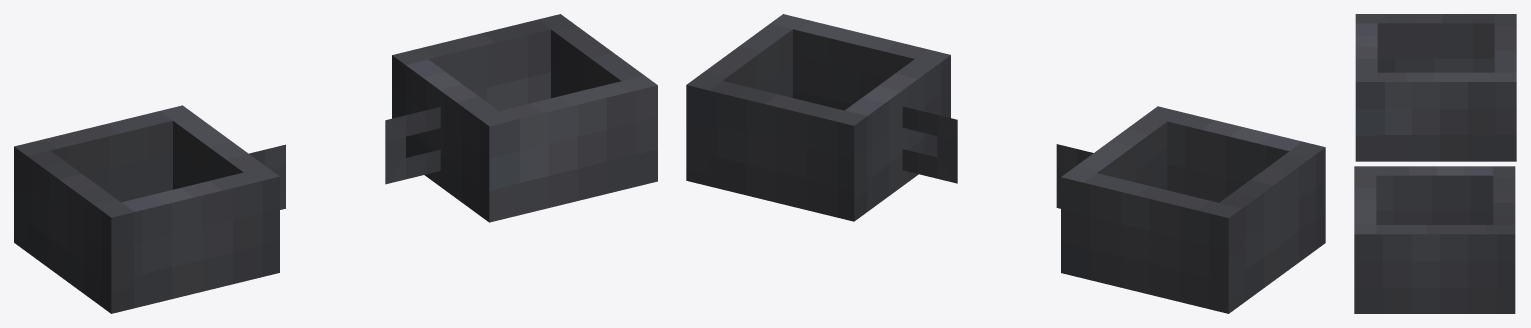
The model's file is shackles.obj.
3 renders of one model, left to right at view 1: azimuth 30°, elevation 25°; view 2: azimuth 150°, elevation 25°; view 3: azimuth 270°, elevation 25°, orthographic. The views are drawn at different scales.
Parts seen in each view (by area): view 1: cube.003, cube.007, cube.006, cube.001, cube.009, cube.002, cube.008, cube, cube.005, cube.004; view 2: cube.009, cube.002, cube.006, cube.001, cube.007, cube.003, cube, cube.008, cube.005, cube.004; view 3: cube.008, cube, cube.001, cube.006, cube.007, cube.003, cube.002, cube.009.
Boxes of the visible parts, box(x1,y1,x2,y2) form: cube.003: box(499, 75, 657, 216); cube.007: box(121, 167, 279, 308); cube.006: box(27, 150, 134, 313); cube.001: box(405, 59, 512, 222); cube.009: box(14, 111, 172, 251); cube.002: box(392, 19, 550, 118); cube.008: box(160, 105, 266, 189); cube: box(538, 14, 644, 98); cube.005: box(385, 107, 440, 184); cube.004: box(249, 144, 285, 209); cube.009: box(1083, 173, 1241, 313); cube.002: box(709, 81, 867, 221); cube.006: box(1219, 141, 1325, 303); cube.001: box(845, 49, 950, 211); cube.007: box(1145, 106, 1302, 202); cube.003: box(770, 14, 927, 110); cube: box(686, 23, 792, 186); cube.008: box(1061, 116, 1167, 278); cube.005: box(902, 106, 957, 183); cube.004: box(1056, 144, 1093, 208); cube.008: box(1377, 72, 1516, 161); cube: box(1376, 225, 1515, 313); cube.001: box(1354, 166, 1493, 224); cube.006: box(1355, 14, 1494, 72); cube.007: box(1355, 23, 1377, 161); cube.003: box(1354, 175, 1376, 313); cube.002: box(1493, 166, 1515, 224); cube.009: box(1494, 14, 1516, 72).
Size of the model in its own units: 1.11 by 0.1875 by 0.3469.
